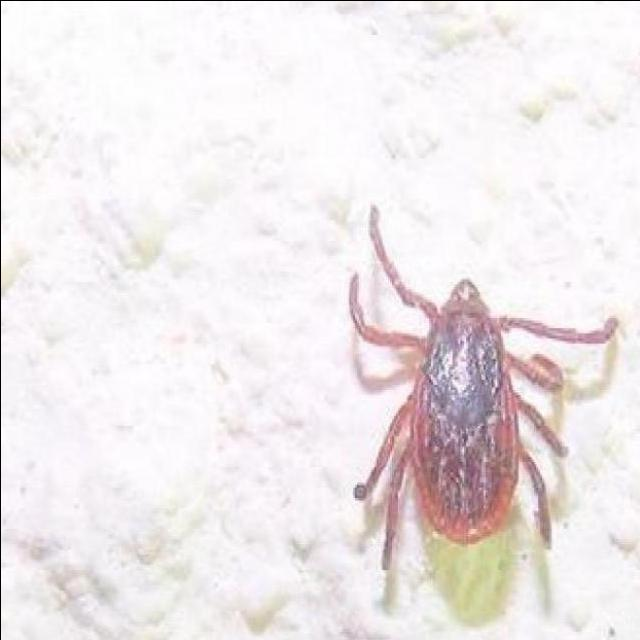Rhipicephalus Sanguineus-F: (346, 206, 617, 569)
